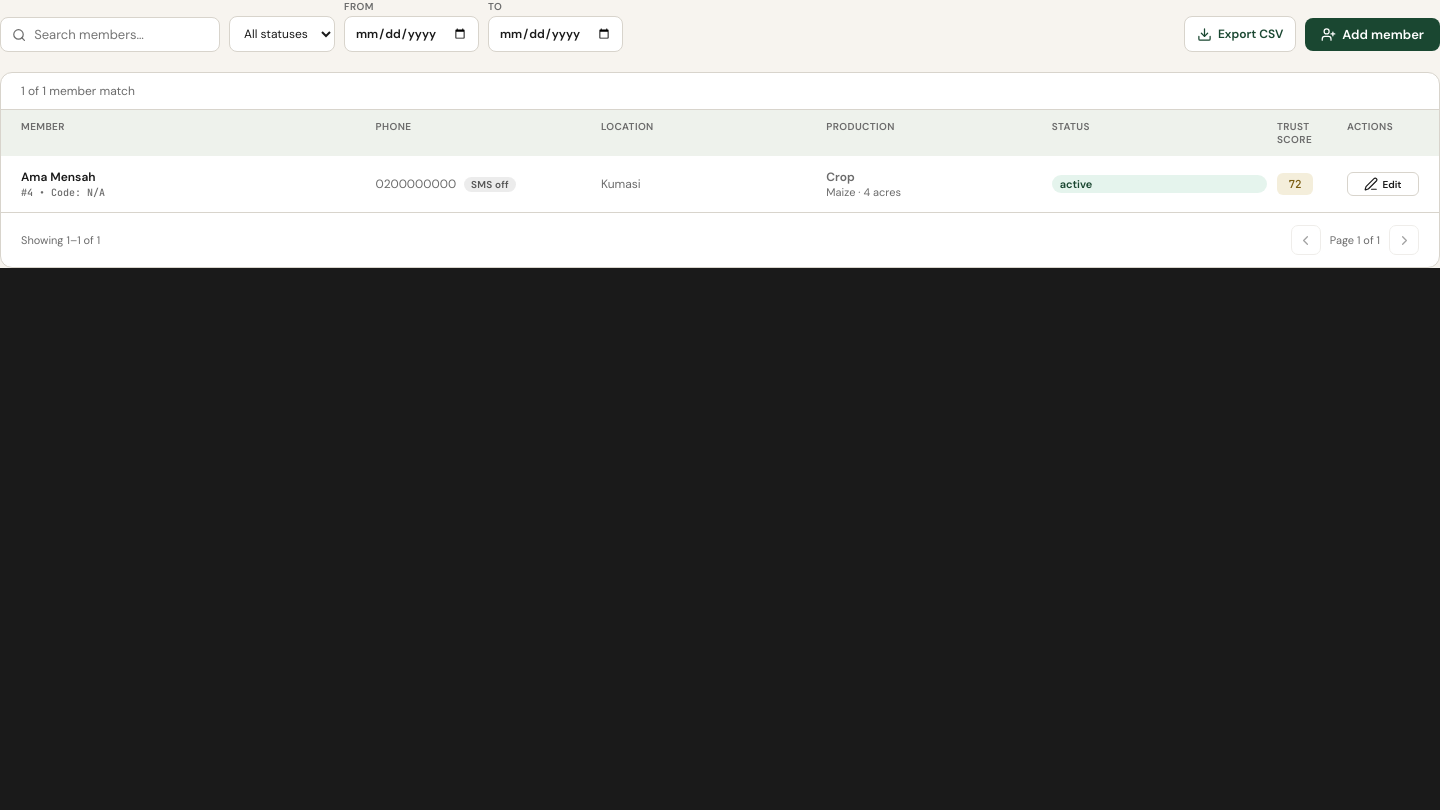
Test case: Members administration › shows both profile sections for mixed production
The image size is (1440, 810).
Click the button "Add member" at coordinates (1373, 34), box top-left (1305, 18), bottom-right (1439, 50)
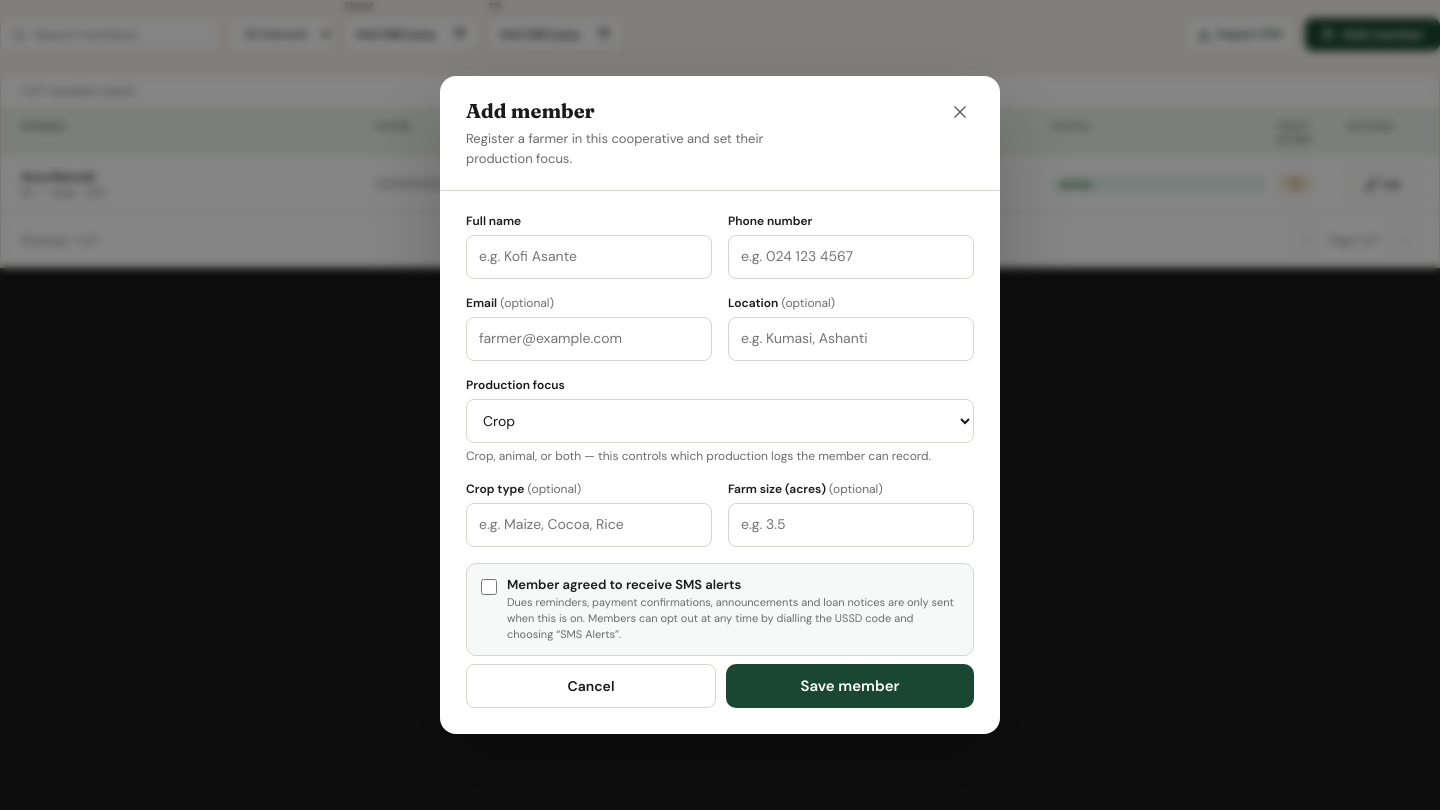
Select "Mixed" in the dropdown labelled "Production focus" at coordinates (720, 421), box top-left (466, 399), bottom-right (974, 443)
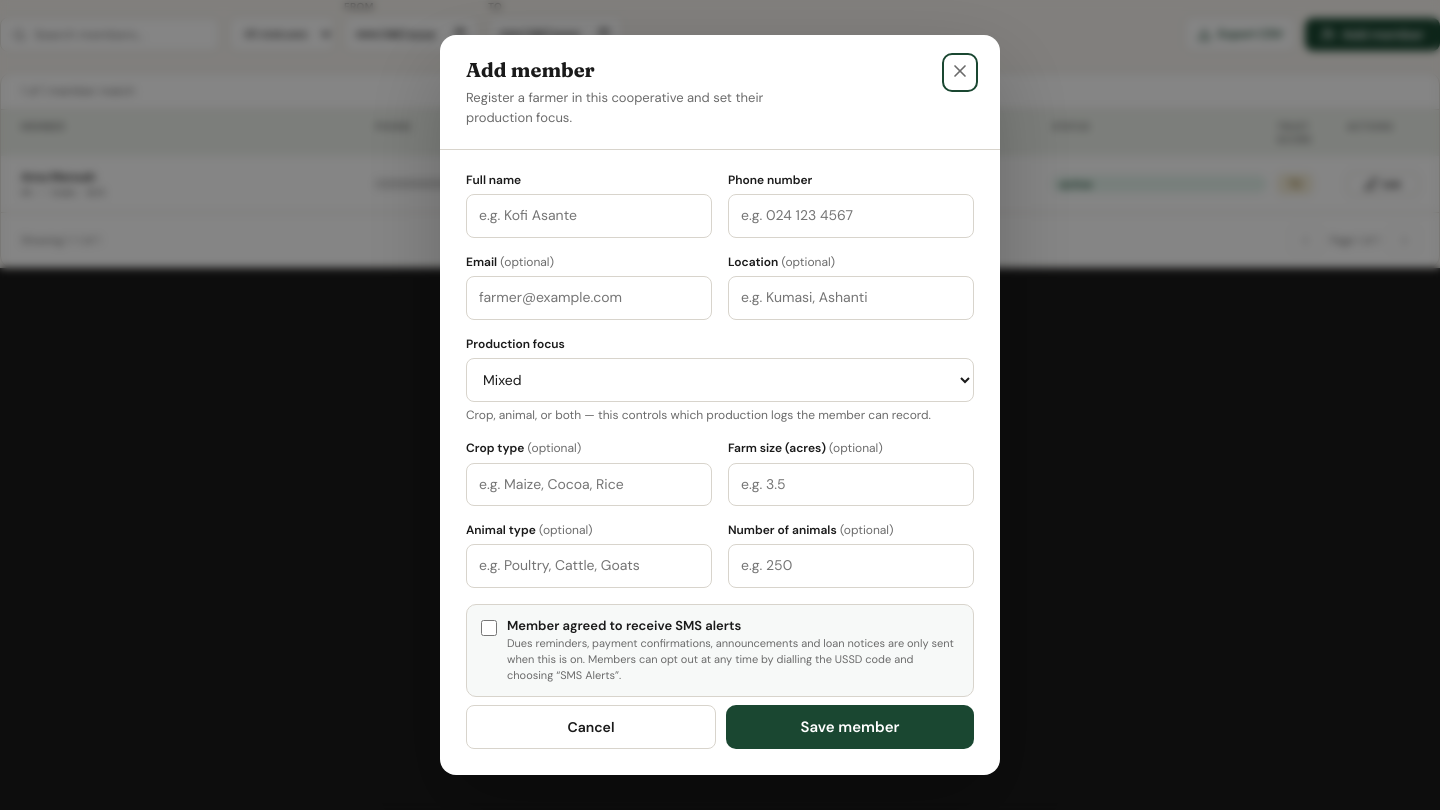
Result: the field labelled "Crop type (optional)" is shown at top-left (466, 463), bottom-right (712, 506)
Result: the field labelled "Animal type (optional)" is shown at top-left (466, 544), bottom-right (712, 588)
